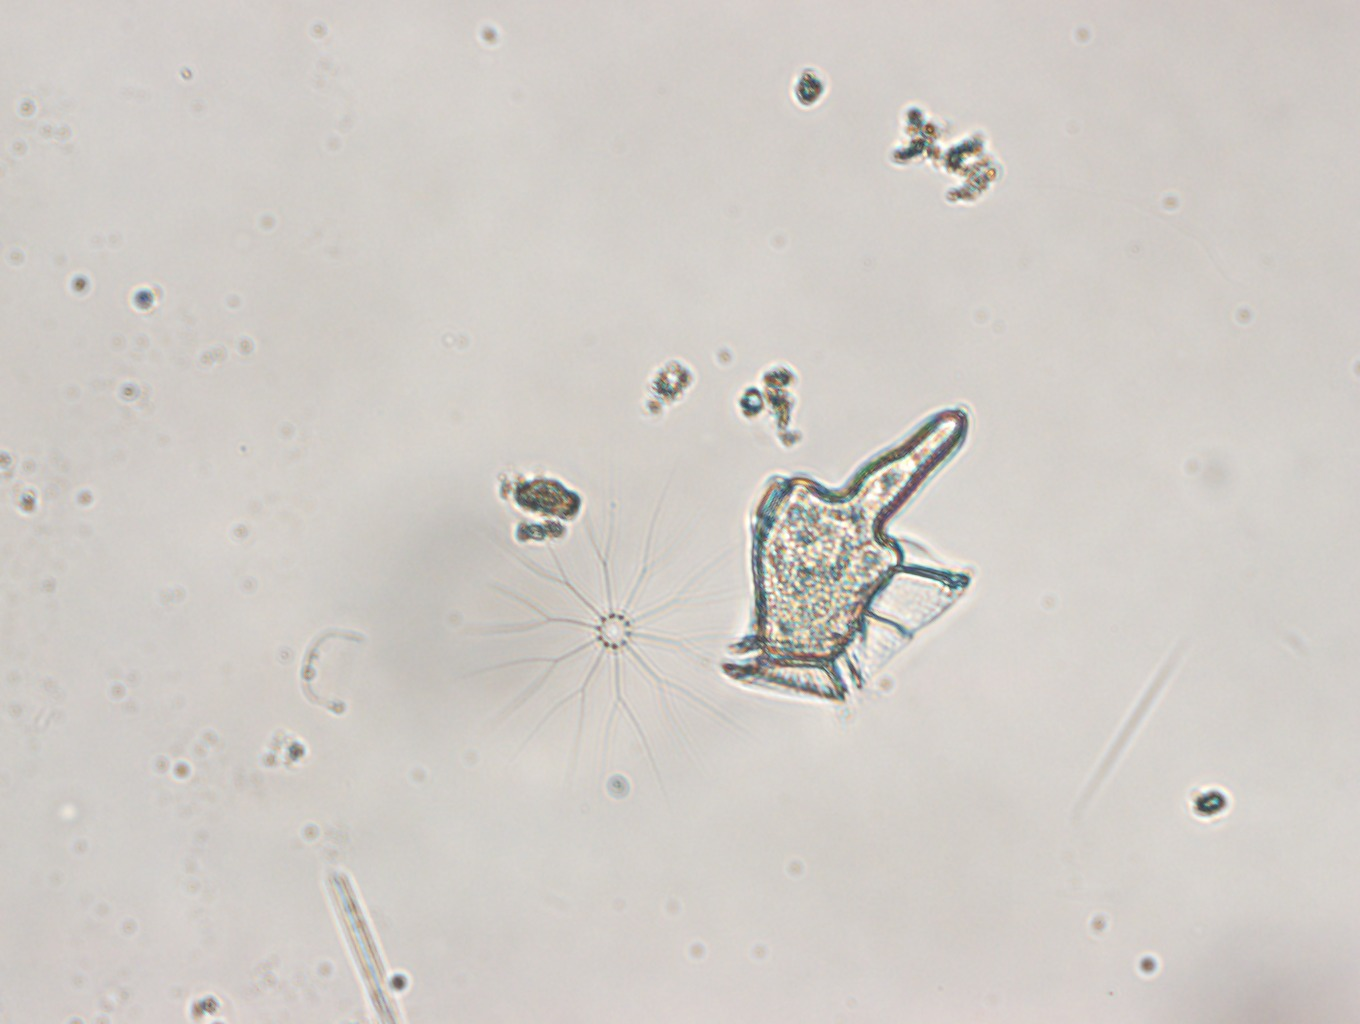bacteriastrum: (449, 486, 765, 797)
dinophysis caudata: (719, 396, 978, 710)
